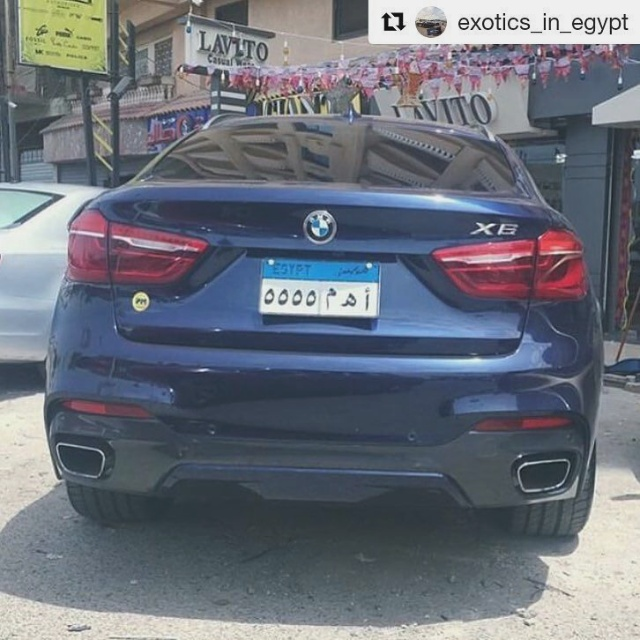License Plate: (255, 250, 383, 323)
